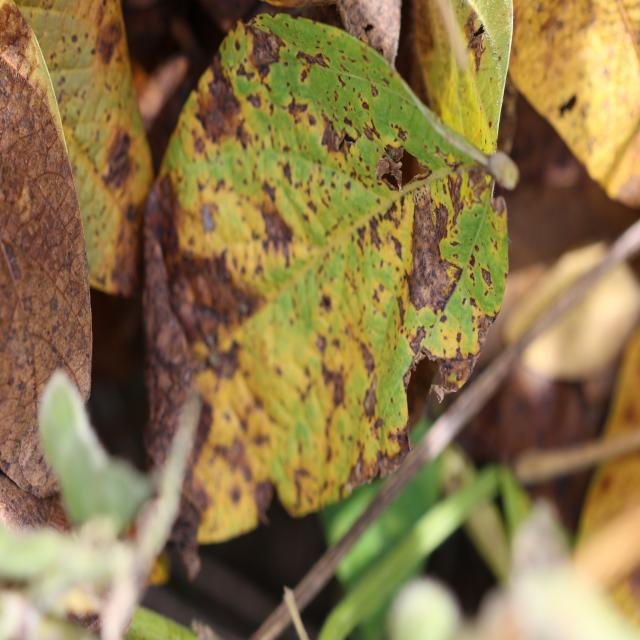Bacterial_Blight: (164, 231, 251, 357), (392, 186, 465, 319), (0, 74, 62, 190), (350, 418, 410, 493), (196, 74, 243, 147), (1, 2, 37, 66), (102, 127, 135, 190), (152, 303, 185, 364), (259, 204, 294, 251), (320, 354, 347, 406), (248, 26, 283, 66), (466, 12, 488, 75), (96, 14, 122, 65), (224, 434, 251, 471), (322, 120, 348, 153), (296, 48, 331, 71), (285, 94, 311, 121), (363, 376, 378, 418), (469, 174, 490, 204), (362, 118, 382, 144), (201, 204, 216, 232), (319, 293, 332, 311), (370, 83, 379, 98)
Soybean: (144, 14, 507, 549)
